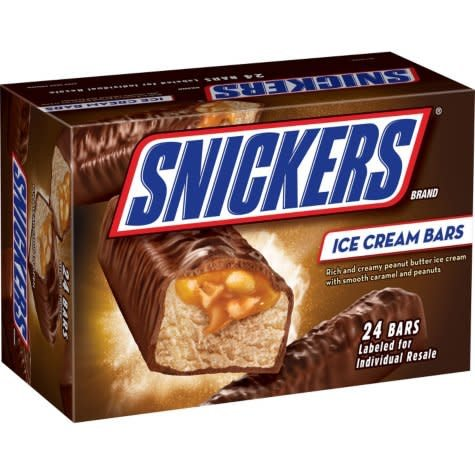snickers: (122, 117, 418, 227), (211, 68, 409, 99), (12, 158, 23, 339)
